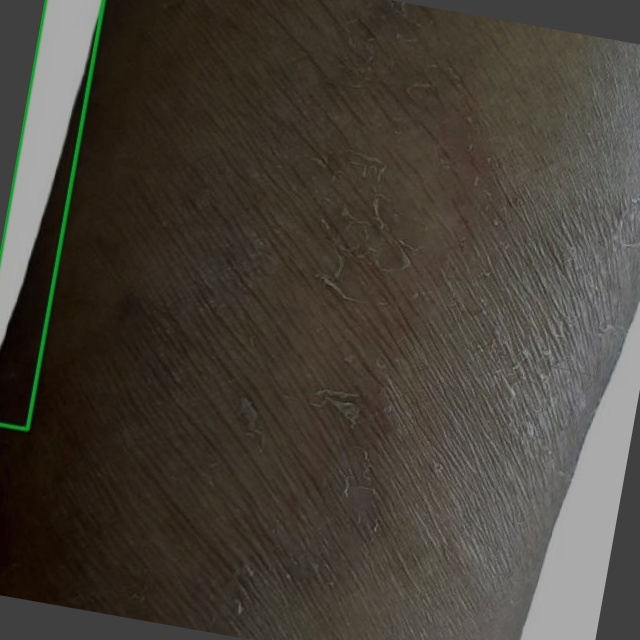Tinea Corporis: (0, 0, 103, 429)
